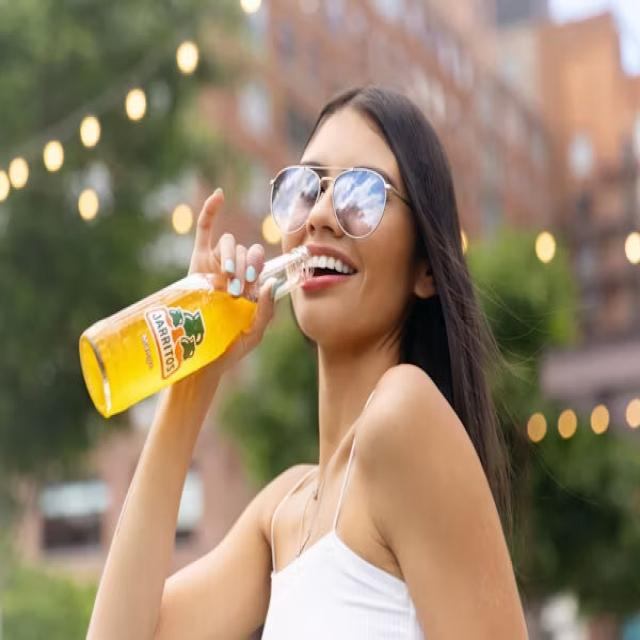Bottle: (79, 274, 257, 417)
